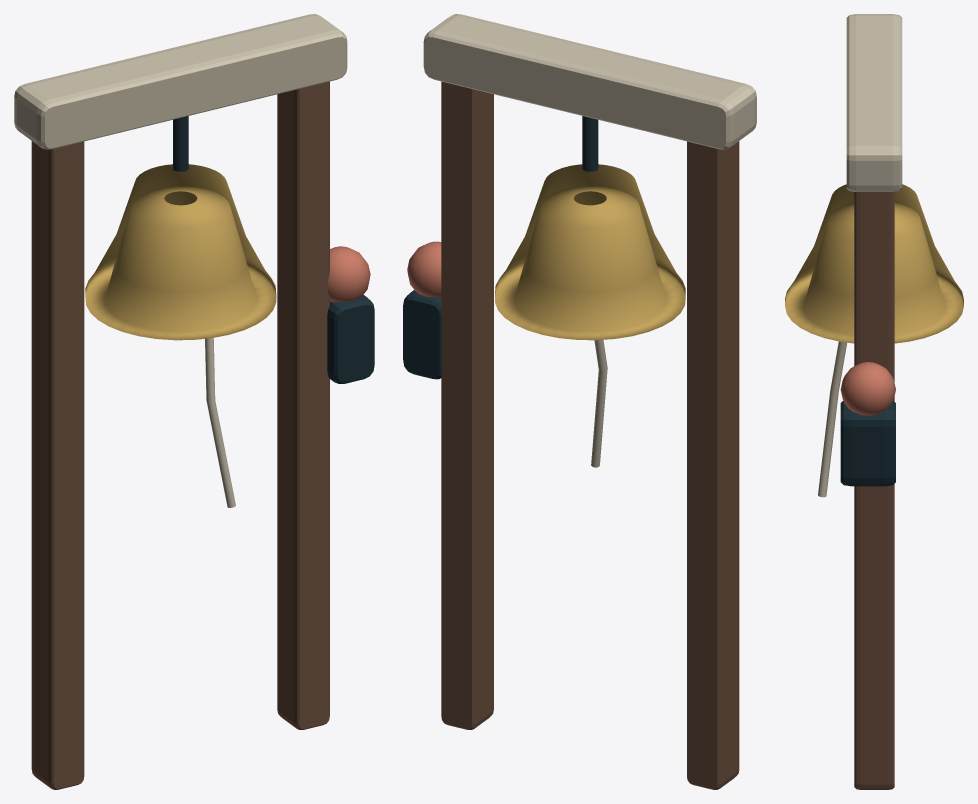
File: alarm-bell.glb
3 renders of one model, left to right at view 1: azimuth 30°, elevation 25°; view 2: azimuth 150°, elevation 25°; view 3: azimuth 270°, elevation 25°, orthographic. The views are drawn at different scales.
Visible parts, largest first — view 1: shell, bell, emission; view 2: shell, bell, emission; view 3: shell, bell, emission.
Part boxes in pixels (<box>): shell: <box>14,14,374,789</box>; bell: <box>85,164,276,507</box>; emission: <box>327,246,370,302</box>; shell: <box>403,14,756,789</box>; bell: <box>495,164,685,467</box>; emission: <box>407,241,441,297</box>; shell: <box>840,14,902,789</box>; bell: <box>785,184,963,497</box>; emission: <box>840,362,895,415</box>.
Size of the model in its own units: 1.18 by 2.32 by 0.58.
